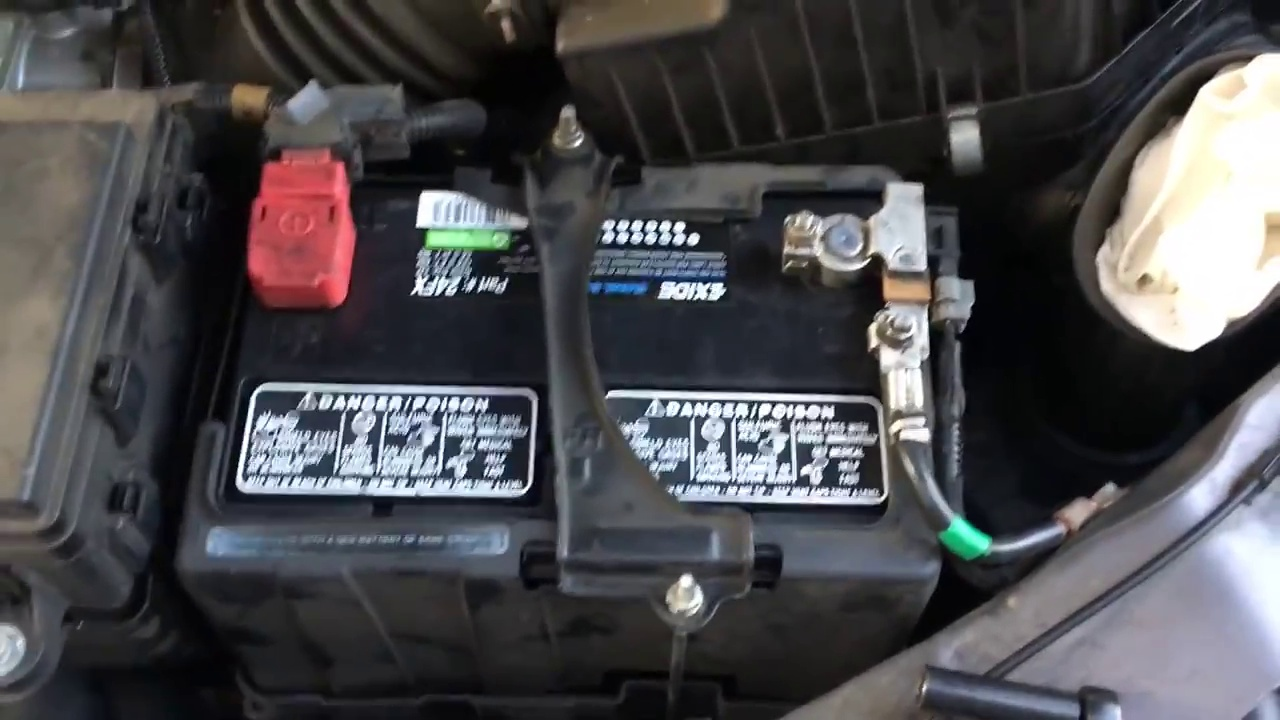battery: (200, 129, 963, 548)
neg_connected: (745, 159, 944, 329)
pos_connected: (215, 109, 408, 315)
